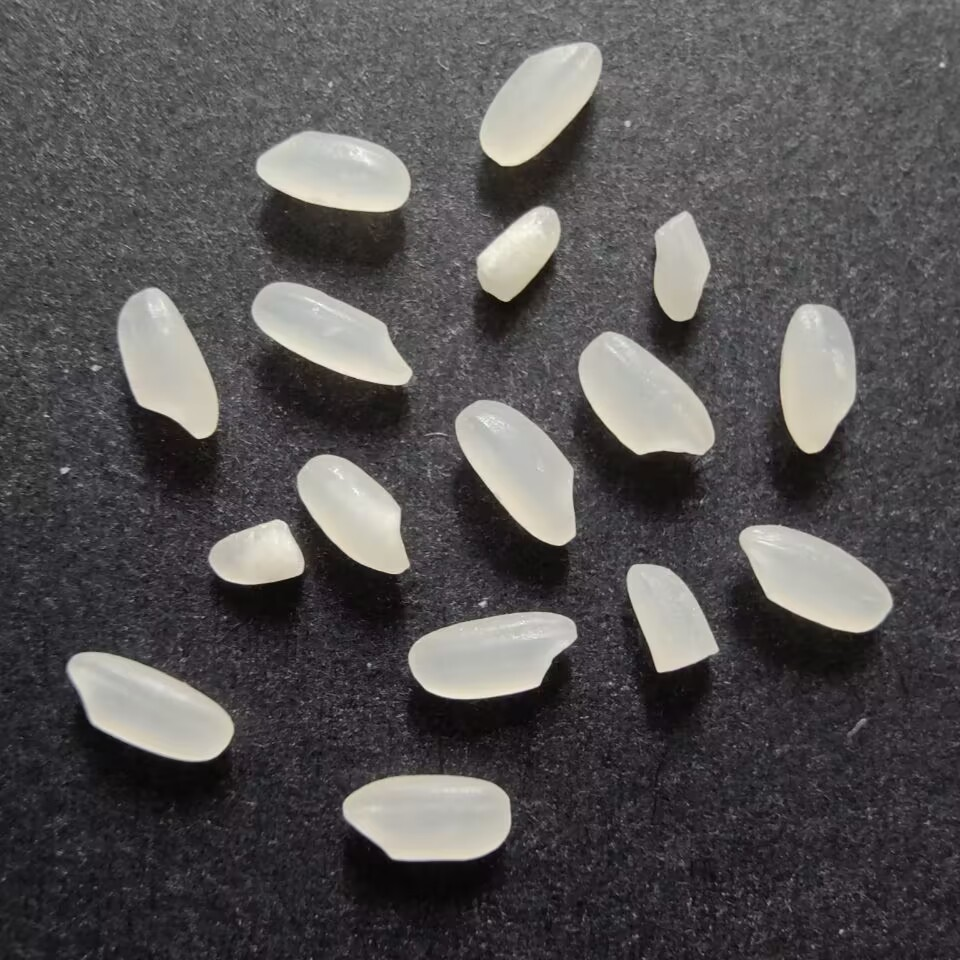broken: (621, 559, 723, 676), (471, 199, 565, 302), (648, 206, 715, 328), (204, 516, 308, 589)
rice: (732, 518, 900, 640), (63, 650, 236, 765), (575, 324, 717, 464), (453, 397, 579, 548), (246, 279, 418, 387), (474, 35, 604, 171), (338, 769, 515, 865), (115, 285, 225, 438), (405, 606, 582, 700), (291, 449, 415, 578), (776, 295, 863, 461), (251, 127, 414, 215)
